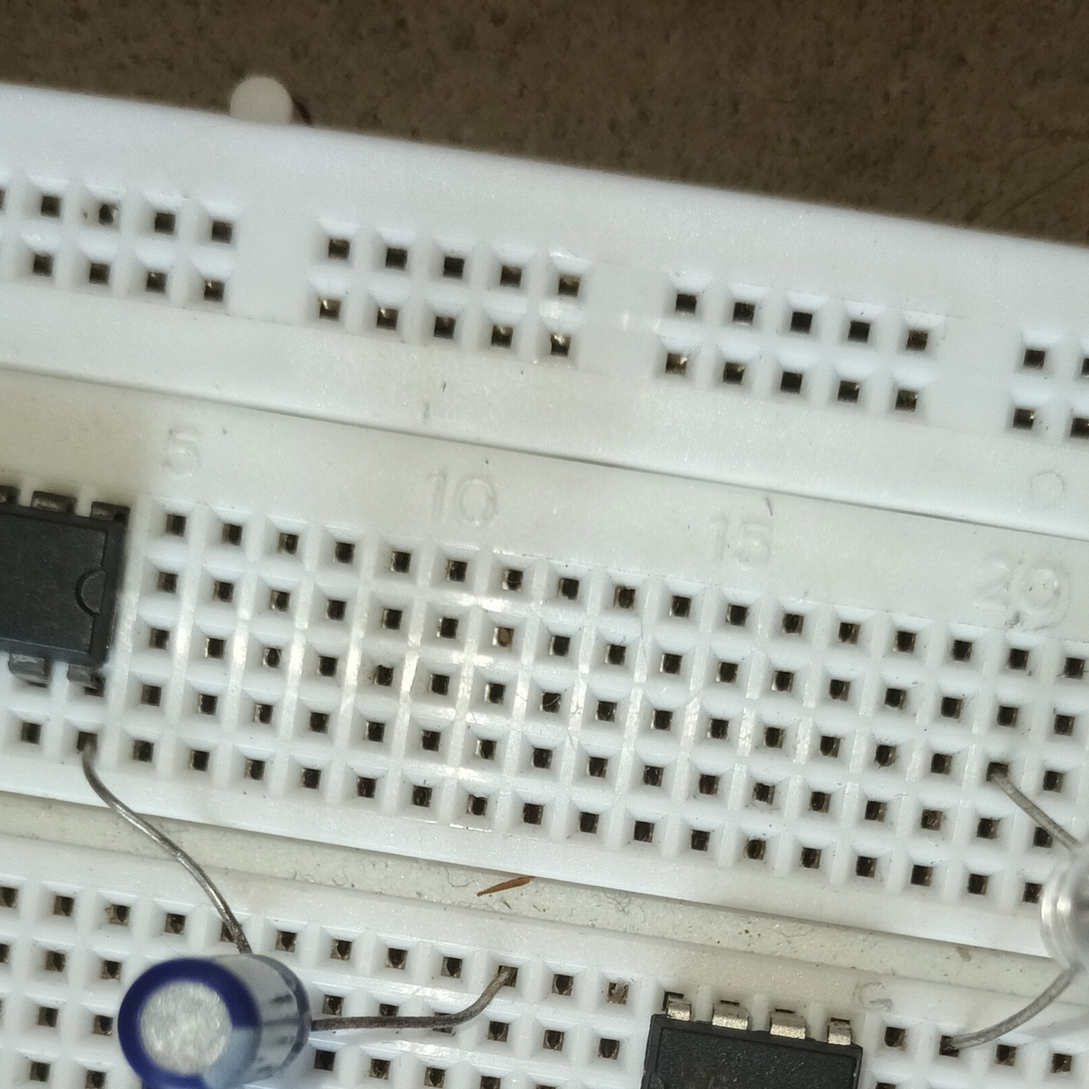capacitor: (118, 947, 318, 1089)
